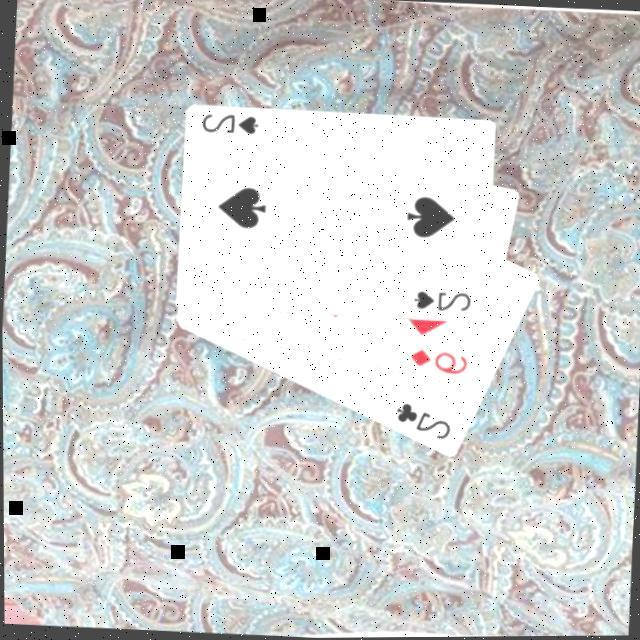2C: (392, 402, 456, 447)
2S: (410, 290, 475, 319), (199, 111, 264, 140)
6D: (407, 348, 472, 381)
